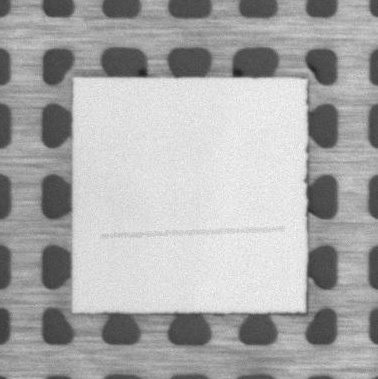DIE_CRACK: (99, 221, 286, 241)
